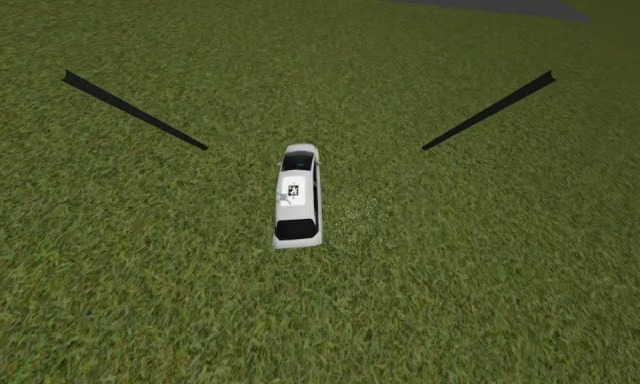Car: (273, 144, 322, 247)
Landing Pad: (281, 176, 307, 207)
